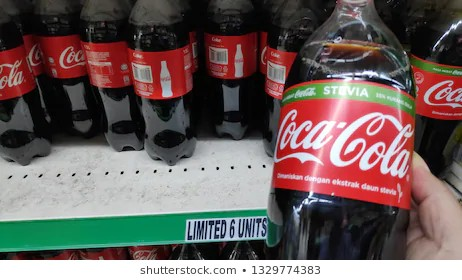coke-bottle-2l: (259, 1, 415, 259), (125, 2, 208, 160), (77, 3, 144, 148), (1, 1, 66, 149), (211, 1, 265, 141), (54, 1, 90, 149)
